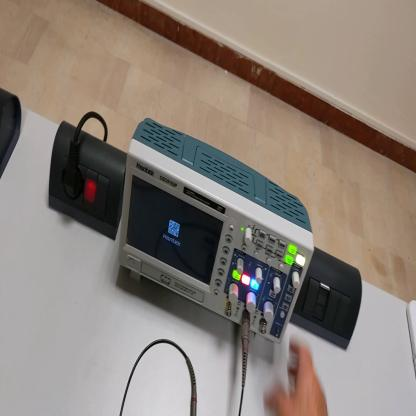hand: (263, 338, 327, 415)
oscilloscope: (119, 117, 316, 346)
oscilloscope probe tip: (185, 357, 201, 415)
socket: (48, 121, 128, 243), (2, 86, 22, 181)
